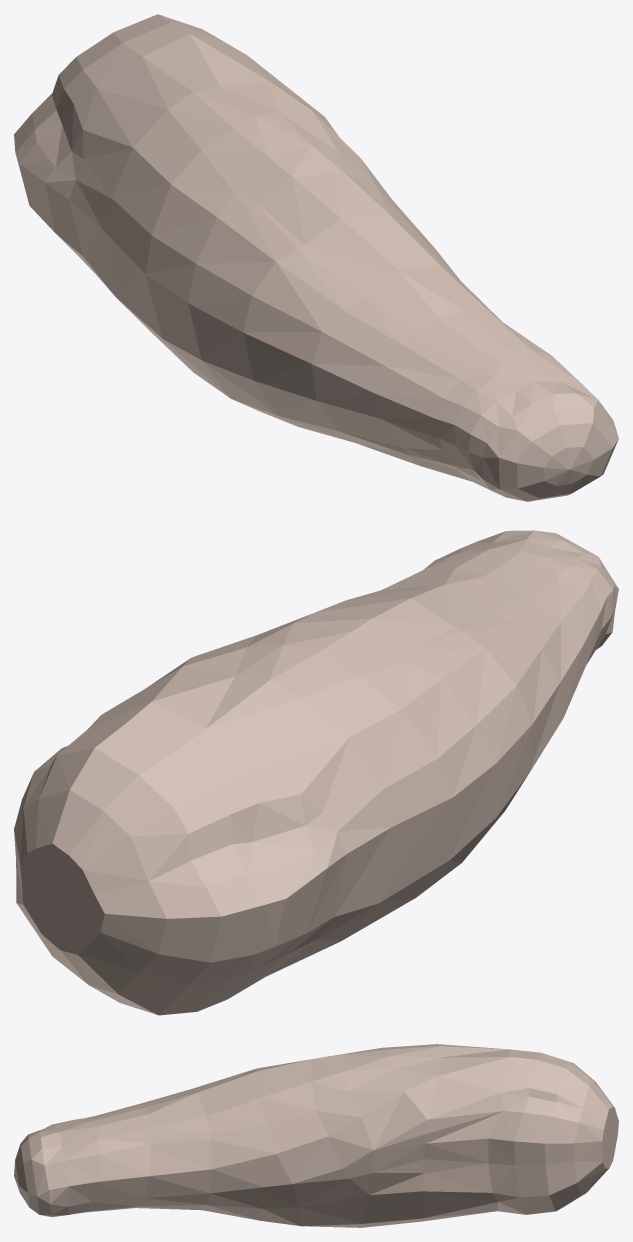
Rendered from RForearmLink.dae.
3 views of the same model, one above another, from view 1: azimuth 30°, elevation 25°; view 2: azimuth 150°, elevation 25°; view 3: azimuth 270°, elevation 25° (orthographic). The views are drawn at different scales.
Parts seen in each view (by area): view 1: ShapeIndexedFaceSet; view 2: ShapeIndexedFaceSet; view 3: ShapeIndexedFaceSet.
Part boxes in pixels (bbox=[...]): ShapeIndexedFaceSet: bbox=[14, 14, 618, 501]; ShapeIndexedFaceSet: bbox=[14, 530, 618, 1015]; ShapeIndexedFaceSet: bbox=[14, 1044, 618, 1227].
Size of the model in its own units: 0.093 by 0.3024 by 0.0969.
